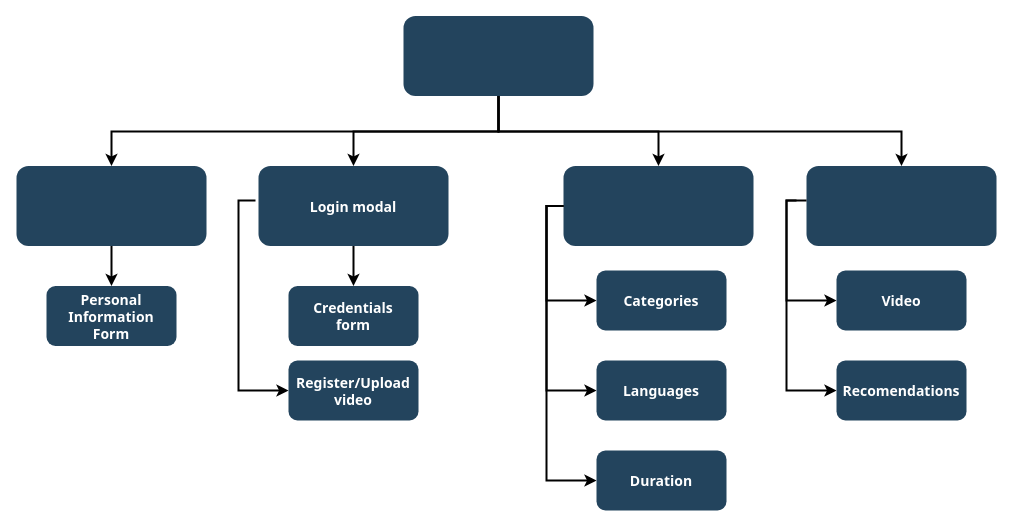
Some shapes in this 1013 by 527 pixel diagram are drawn without their labels. Here are the shapes that lost their labels. From the top down, the centre of each, then its label:
At [498,56]: "Home page".
At [111,206]: "Sign up modal".
At [658,206]: "Search engine modal".
At [901,206]: "Media player page".
